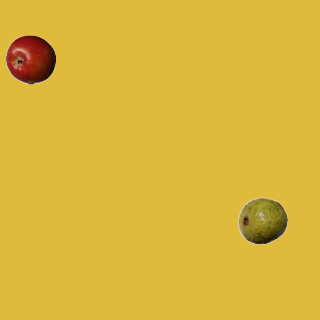Apple Braeburn: (5, 34, 55, 84)
Guava: (237, 195, 287, 245)
